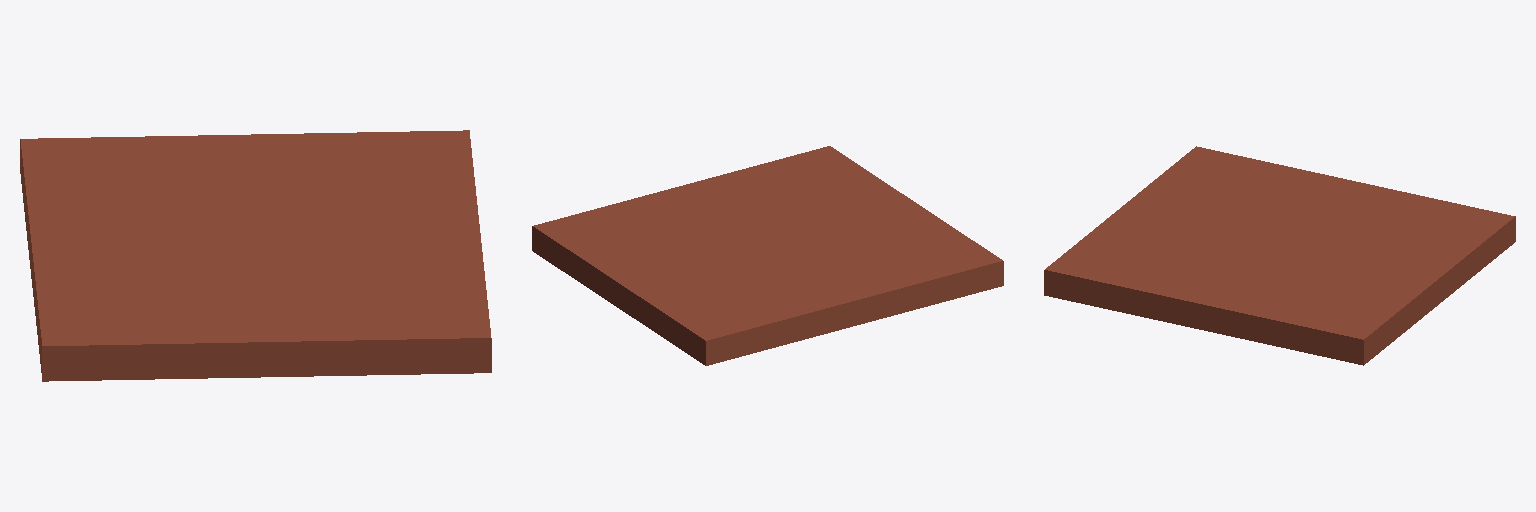
robot.urdf — Interference:
<?xml version="1.0"?>
<robot name="Interference">
  <link name="baseLink">
    <inertial>
      <origin xyz="0.0 0.0 0.0" rpy="0.0 0.0 0.0"/>
      <inertia ixx="0.0" ixy="0.0" ixz="0.0" iyy="0.0" iyz="0.0" izz="0.0"/>
      <mass value="0"/>
    </inertial>
    <visual>
      <origin xyz="0.0 0.0 0.0" rpy="0.0 0.0 -0.4790338415711366"/>
      <geometry>
        <box size="0.1155717779794704 0.1263586336365625 0.01"/>
      </geometry>
      <material name="color">
        <color rgba="0.6125880012991463 0.3501112817009583 0.2661680097797785 1.0"/>
      </material>
    </visual>
  </link>
</robot>

--- Facts derived from the render (not from the file) ---
Views: 3 orthographic renders of the robot side by side, from view 1: azimuth 30°, elevation 25°; view 2: azimuth 150°, elevation 25°; view 3: azimuth 270°, elevation 25°.
Robot: Interference — 1 links, 0 joints (none); root link baseLink; default pose: all joints at 0.
Visible links, largest first — view 1: baseLink; view 2: baseLink; view 3: baseLink.
Link boxes in pixels (x1=…): baseLink: x1=20, y1=130, x2=491, y2=381; baseLink: x1=532, y1=146, x2=1003, y2=365; baseLink: x1=1044, y1=146, x2=1515, y2=365.
Bounding box of the posed robot: 0.1608 × 0.1654 × 0.01 m (x, y, z).
Geometry: primitives only (box / cylinder / sphere), no mesh files.